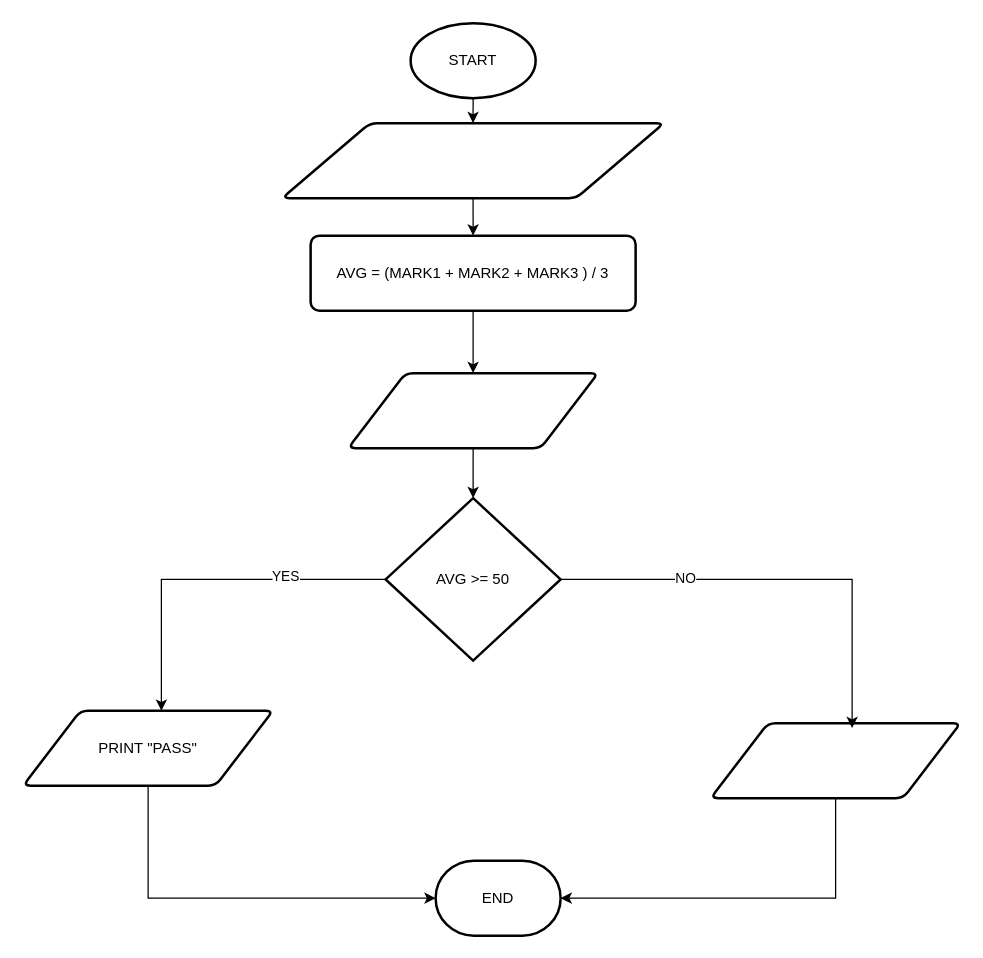
Some shapes in this 983 by 958 pixel diagram are drawn without their labels. Each missing label, with the box of its shape:
PRINT "FAIL": (709, 721, 961, 799)
PRINT AVG: (346, 371, 599, 449)
READ MARK1 , MARK2 , MARK3: (280, 121, 665, 199)
